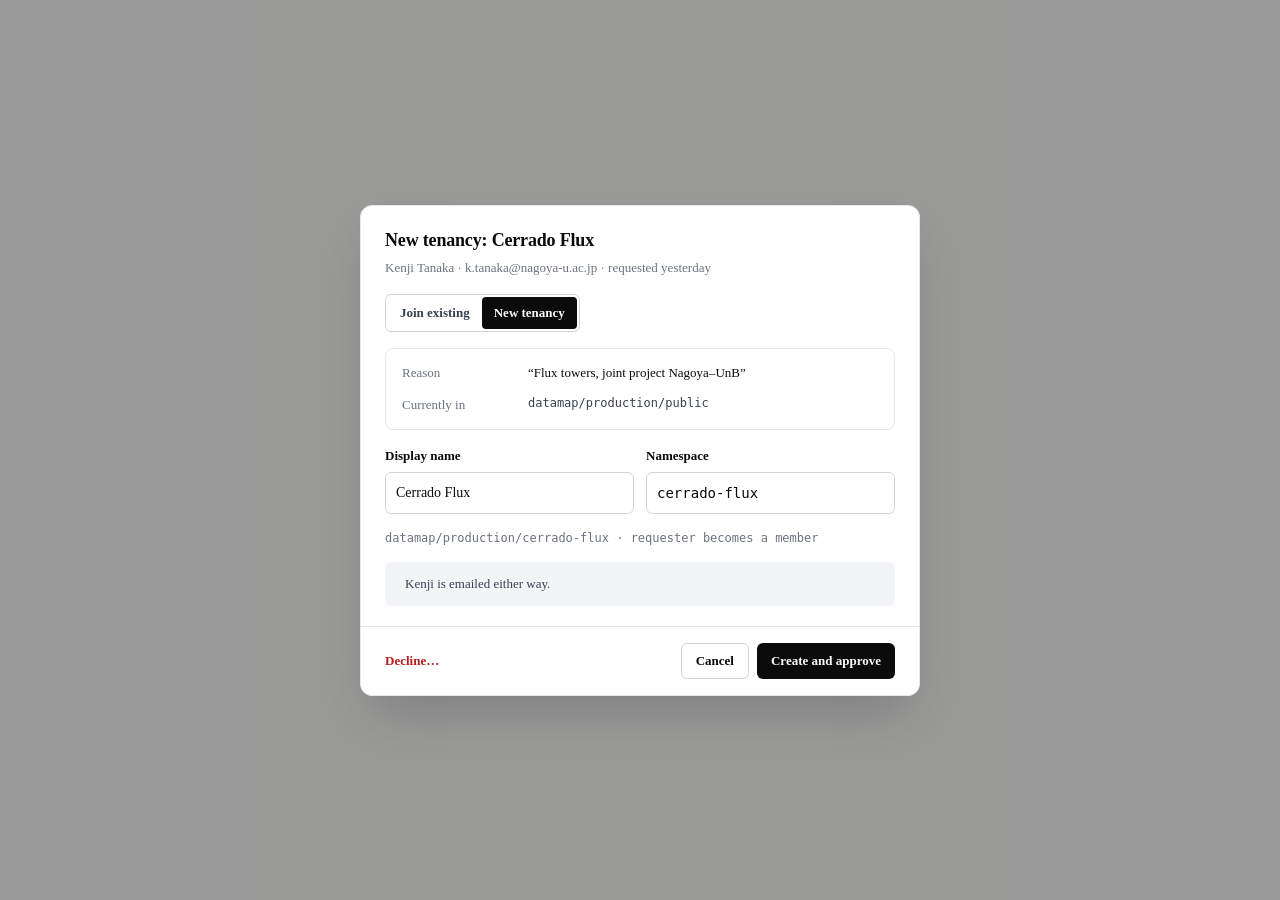
ReviewRequestDialog › an invalid namespace is caught before the server
Replace the text in the field labelled "Namespace" with "public": (770, 492) x1=646 y1=472 x2=895 y2=514
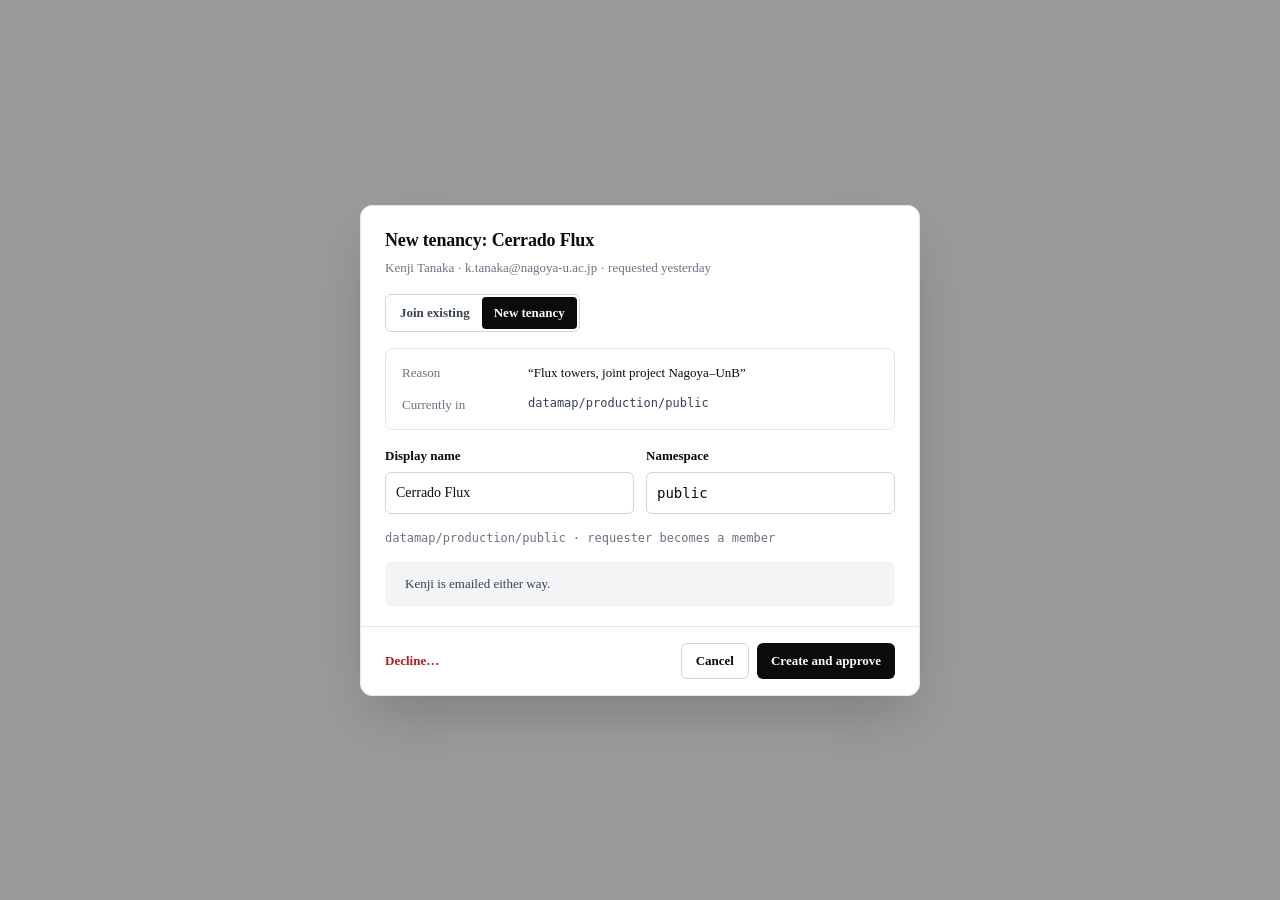
Click the button "Create and approve": (826, 660) x1=757 y1=642 x2=895 y2=678
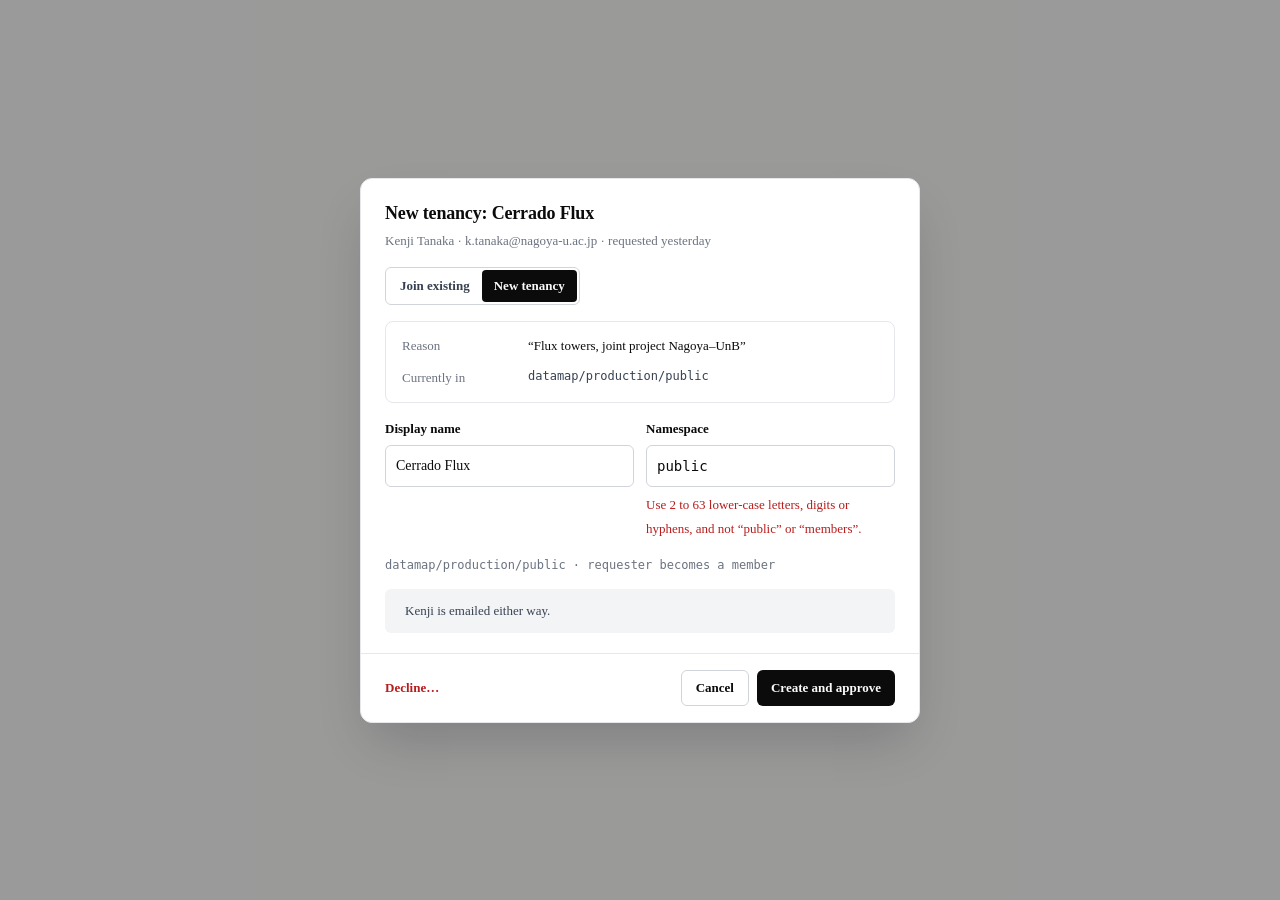
Expected: the text "Use 2 to 63 lower-case letters, digits or hyphens, and not “public” or “members”." is shown, x1=646 y1=496 x2=862 y2=536
